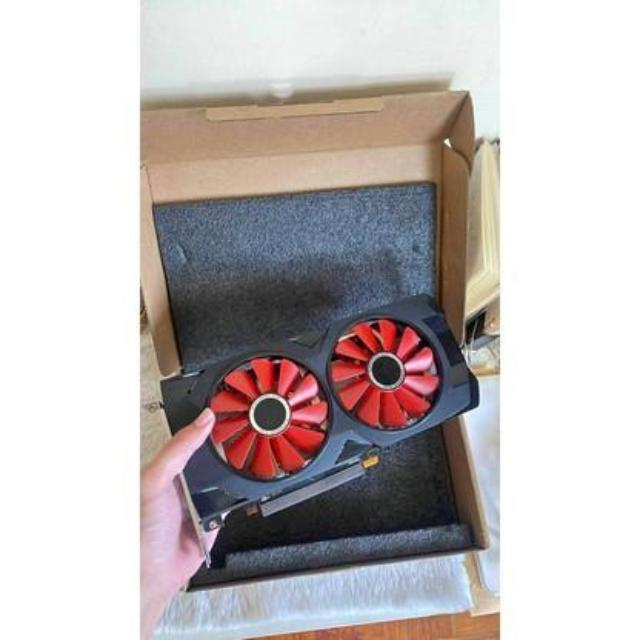GPU: (172, 295, 474, 550)
